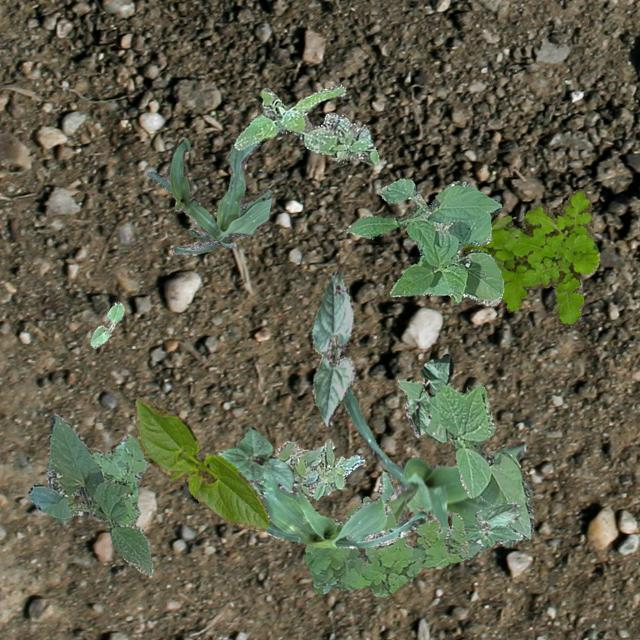crop: (340, 386, 526, 546), (396, 378, 532, 538), (28, 412, 152, 574), (346, 178, 502, 304), (134, 394, 268, 530), (245, 470, 426, 548), (170, 140, 272, 254), (146, 138, 218, 238), (311, 270, 354, 426), (215, 426, 292, 490), (404, 352, 452, 437), (462, 502, 524, 558), (90, 302, 122, 346)
weed: (462, 188, 598, 326), (304, 496, 468, 596), (232, 84, 378, 164), (88, 432, 146, 524), (274, 441, 364, 498)
